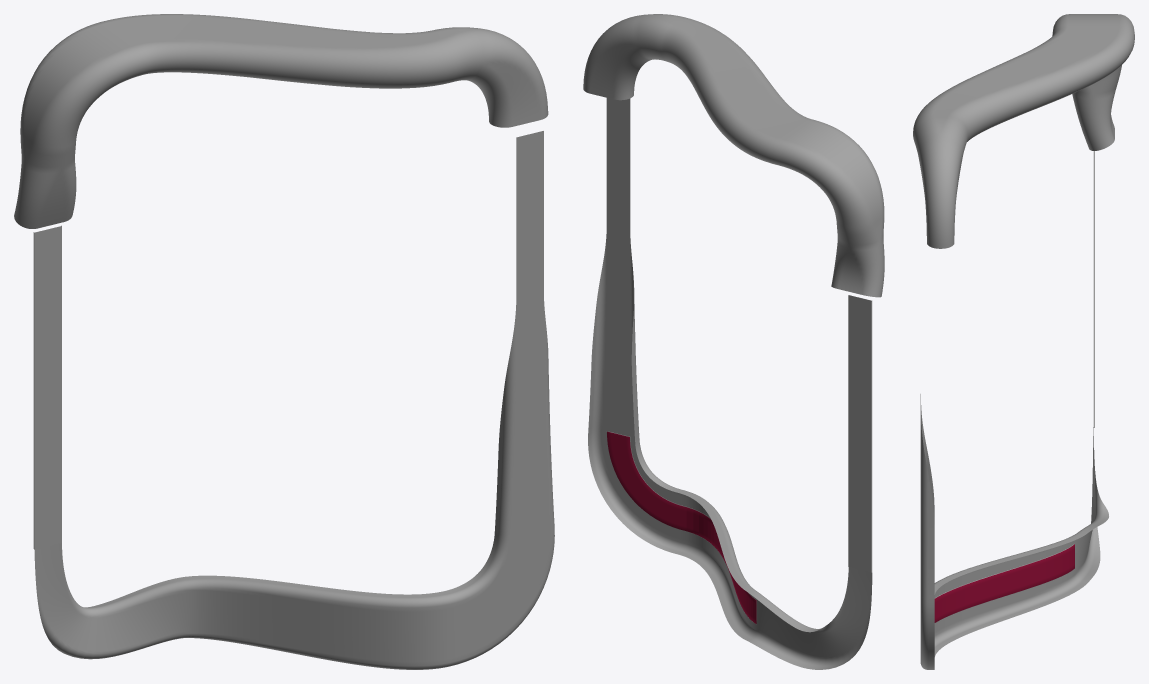
File: track.obj
3 views of the same model, side by side, from view 1: azimuth 30°, elevation 25°; view 2: azimuth 150°, elevation 25°; view 3: azimuth 270°, elevation 25° (orthographic). The views are drawn at different scales.
Parts seen in each view (by area): view 1: MXTRoadSegment.012_PreviewMesh, MXTRoadSegment.003_PreviewMesh, MXTRoadSegment.019_PreviewMesh, MXTRoadSegment.000_PreviewMesh, MXTRoadSegment.009_PreviewMesh; view 2: MXTRoadSegment.012_PreviewMesh, MXTRoadSegment.003_PreviewMesh, MXTRoadSegment.019_PreviewMesh, MXTRoadSegment.000_PreviewMesh, MXTRoadSegment.009_PreviewMesh; view 3: MXTRoadSegment.003_PreviewMesh, MXTRoadSegment.012_PreviewMesh.
Part boxes in pixels (<box>): MXTRoadSegment.012_PreviewMesh: <box>34,290,554,669</box>; MXTRoadSegment.003_PreviewMesh: <box>14,14,548,228</box>; MXTRoadSegment.019_PreviewMesh: <box>33,383,61,549</box>; MXTRoadSegment.000_PreviewMesh: <box>33,225,61,389</box>; MXTRoadSegment.009_PreviewMesh: <box>516,131,543,297</box>; MXTRoadSegment.012_PreviewMesh: <box>588,225,872,669</box>; MXTRoadSegment.003_PreviewMesh: <box>583,14,884,297</box>; MXTRoadSegment.019_PreviewMesh: <box>848,429,872,572</box>; MXTRoadSegment.000_PreviewMesh: <box>848,295,872,435</box>; MXTRoadSegment.009_PreviewMesh: <box>606,98,630,230</box>; MXTRoadSegment.003_PreviewMesh: <box>913,14,1134,248</box>; MXTRoadSegment.012_PreviewMesh: <box>920,394,1108,669</box>.
Size of the model in its own units: 1431 by 1966 by 725.
